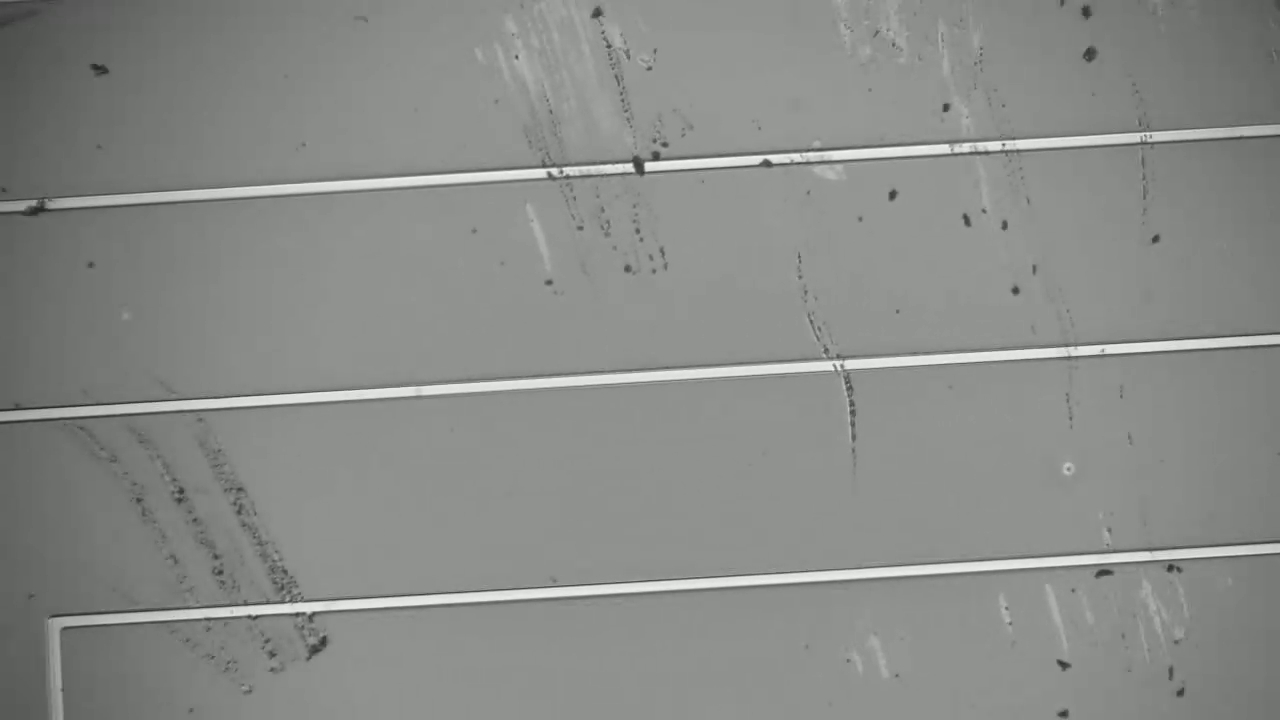scratch: (43, 361, 361, 701)
stains_enbedded: (23, 188, 58, 219), (623, 145, 650, 178), (755, 144, 780, 175)
